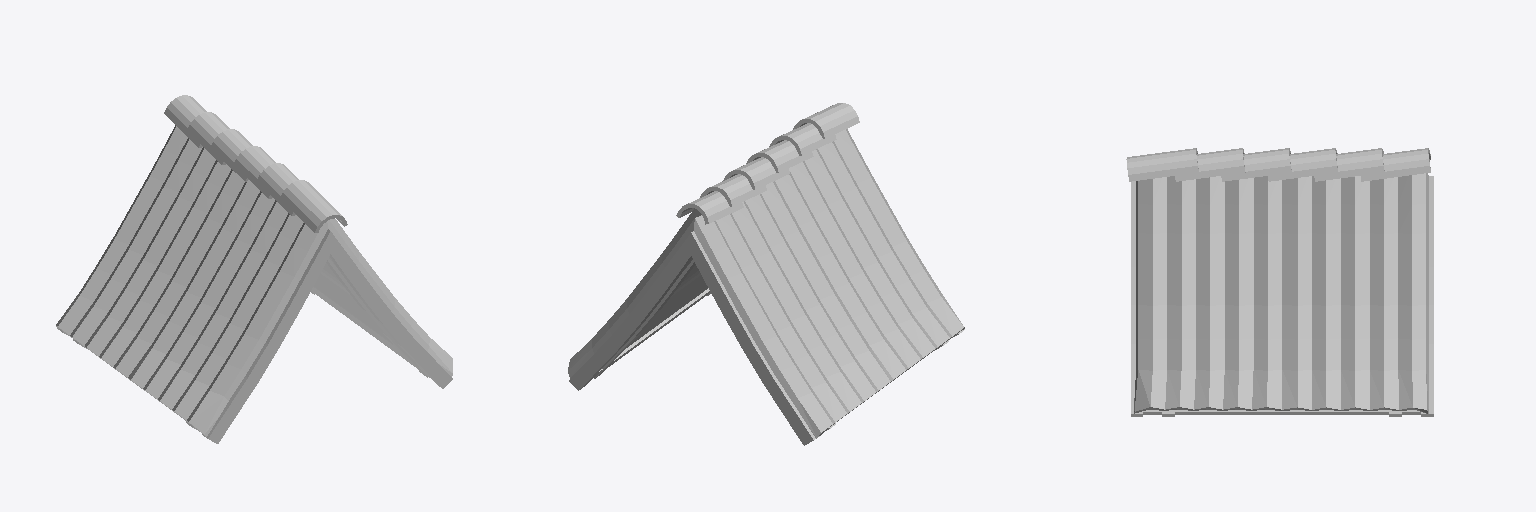
Rendered from Roof_RoundTiles_4x4.obj.
3 renders of one model, left to right at view 1: azimuth 30°, elevation 25°; view 2: azimuth 150°, elevation 25°; view 3: azimuth 270°, elevation 25°, orthographic.
Visible parts, largest first — view 1: Roof_RoundTiles_4x4; view 2: Roof_RoundTiles_4x4; view 3: Roof_RoundTiles_4x4.
Boxes of the visible parts, <box> form: Roof_RoundTiles_4x4: <box>56,95,452,443</box>; Roof_RoundTiles_4x4: <box>568,103,964,445</box>; Roof_RoundTiles_4x4: <box>1126,148,1433,416</box>.
Bounding box in the file's own units: 5.51 × 4.25 × 5.56.